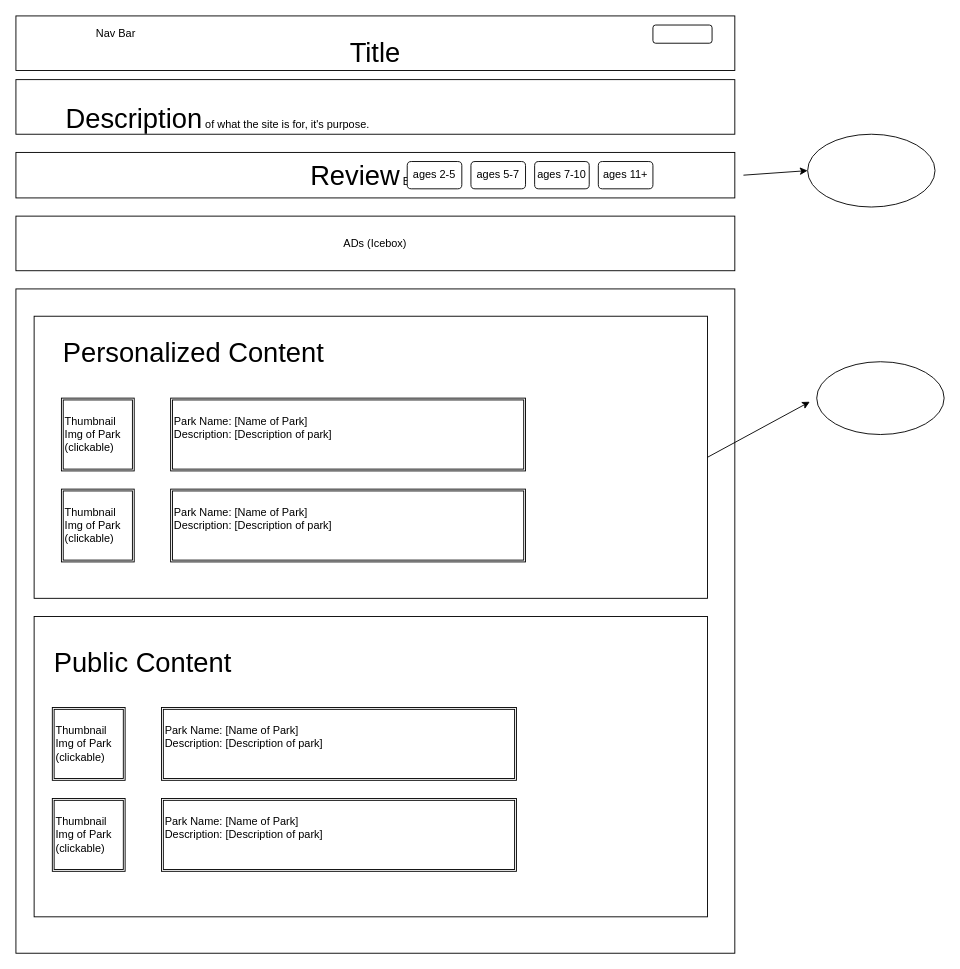
The diagram is 960 pixels wide and 969 high, and some of its shapes have lost their labels. The shapes that lost their labels are listed below. From the top down, each one's centre as x and y in pixels, then its label:
pixel 682 33: Login Btn
pixel 871 170: Filters the parks by the grouped ages.
pixel 880 398: Only shows if user logged in. Otherwise shows Public Content.
